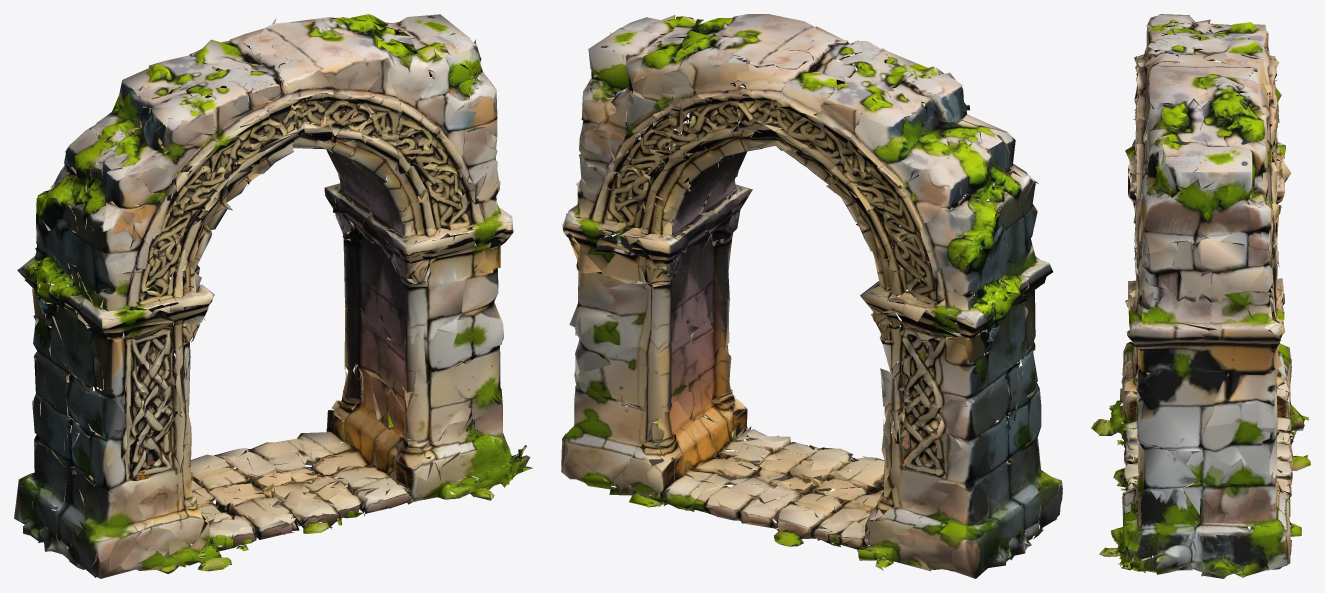
The model's file is Ancient_Archway_town.glb.
3 renders of one model, left to right at view 1: azimuth 30°, elevation 25°; view 2: azimuth 150°, elevation 25°; view 3: azimuth 270°, elevation 25°, orthographic. The views are drawn at different scales.
Parts seen in each view (by area): view 1: Ancient_Archway; view 2: Ancient_Archway; view 3: Ancient_Archway.
Boxes of the visible parts, left/top/right/bottom form: Ancient_Archway: left=14, top=14, right=532, bottom=578; Ancient_Archway: left=561, top=14, right=1062, bottom=578; Ancient_Archway: left=1091, top=14, right=1310, bottom=578.
Bounding box in the file's own units: 1.91 × 1.88 × 0.8643.
1 material, 1 textured.
